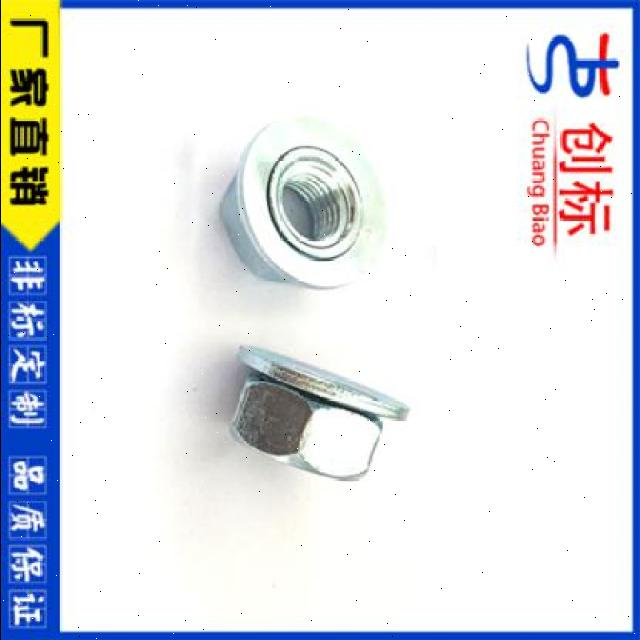Nut: (218, 111, 388, 291), (222, 342, 412, 482)
